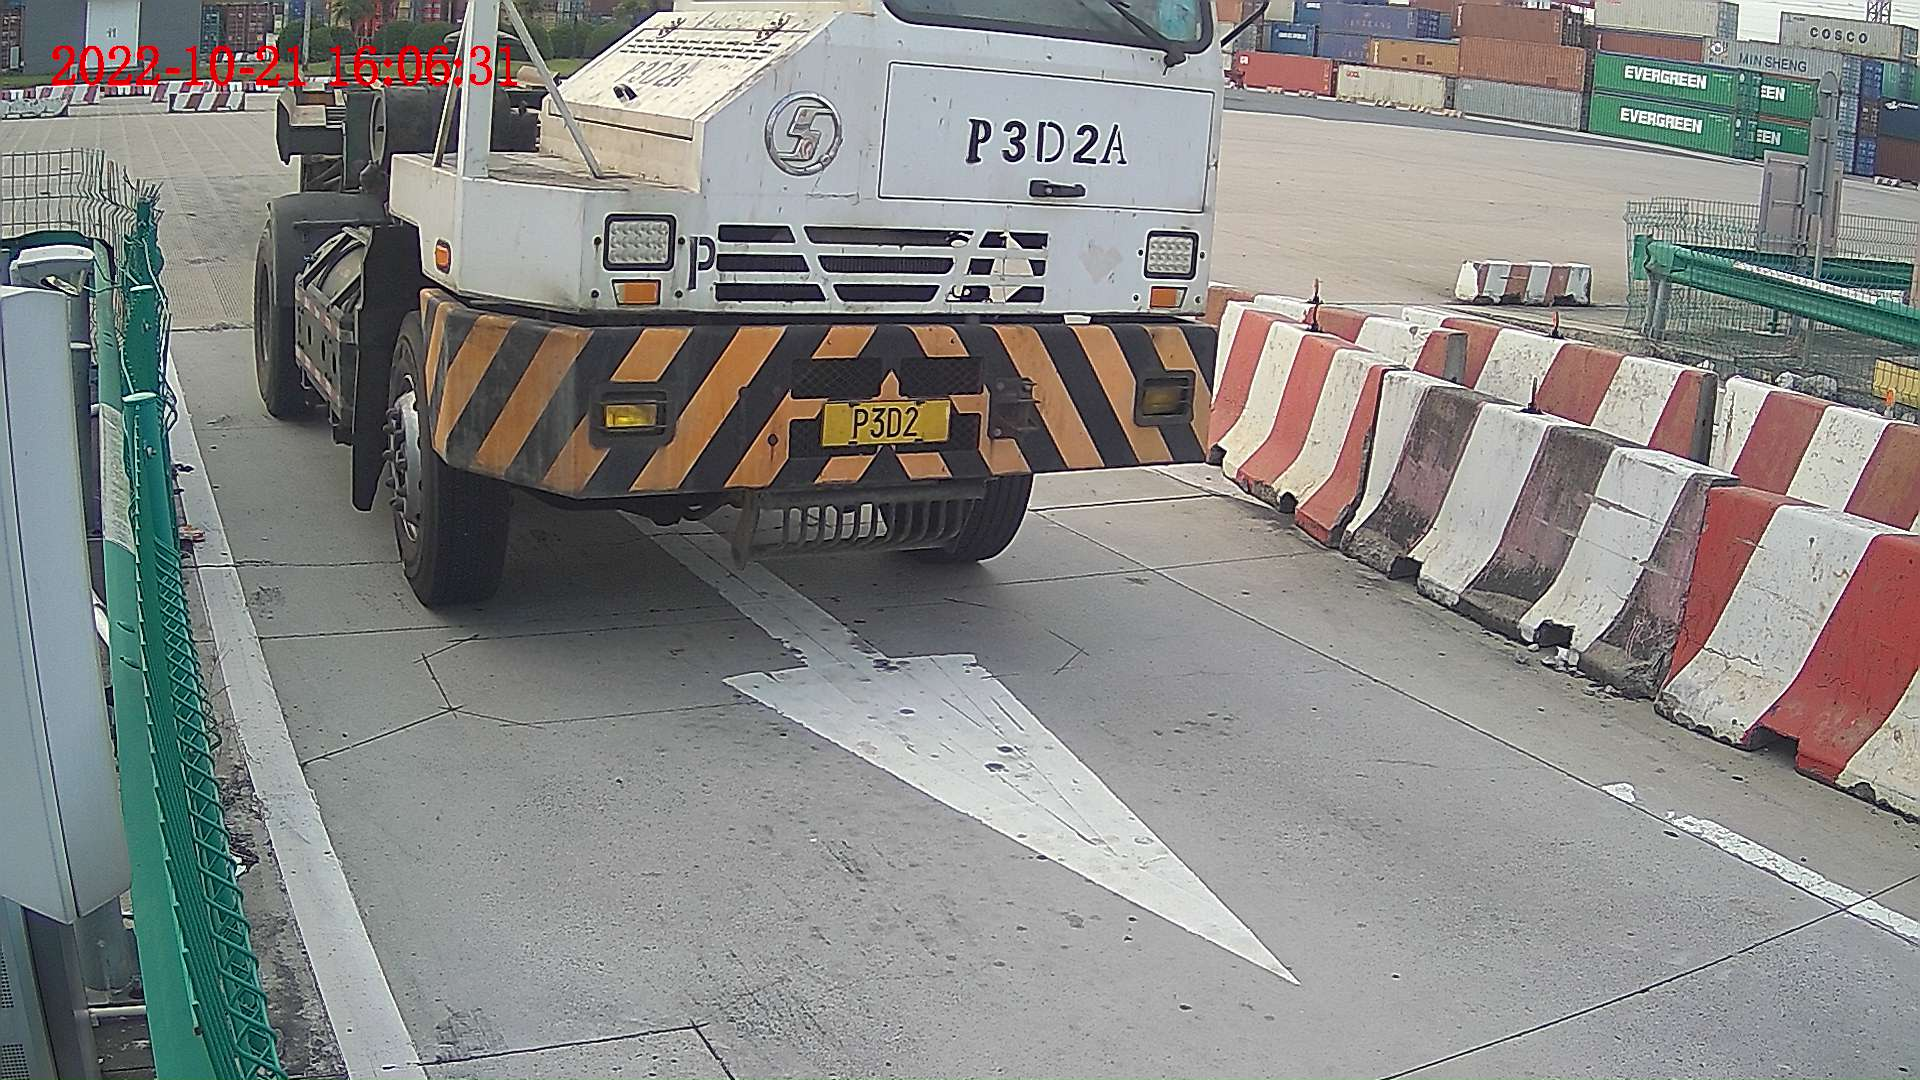head: (348, 1, 1225, 607)
plate: (824, 402, 949, 442)
